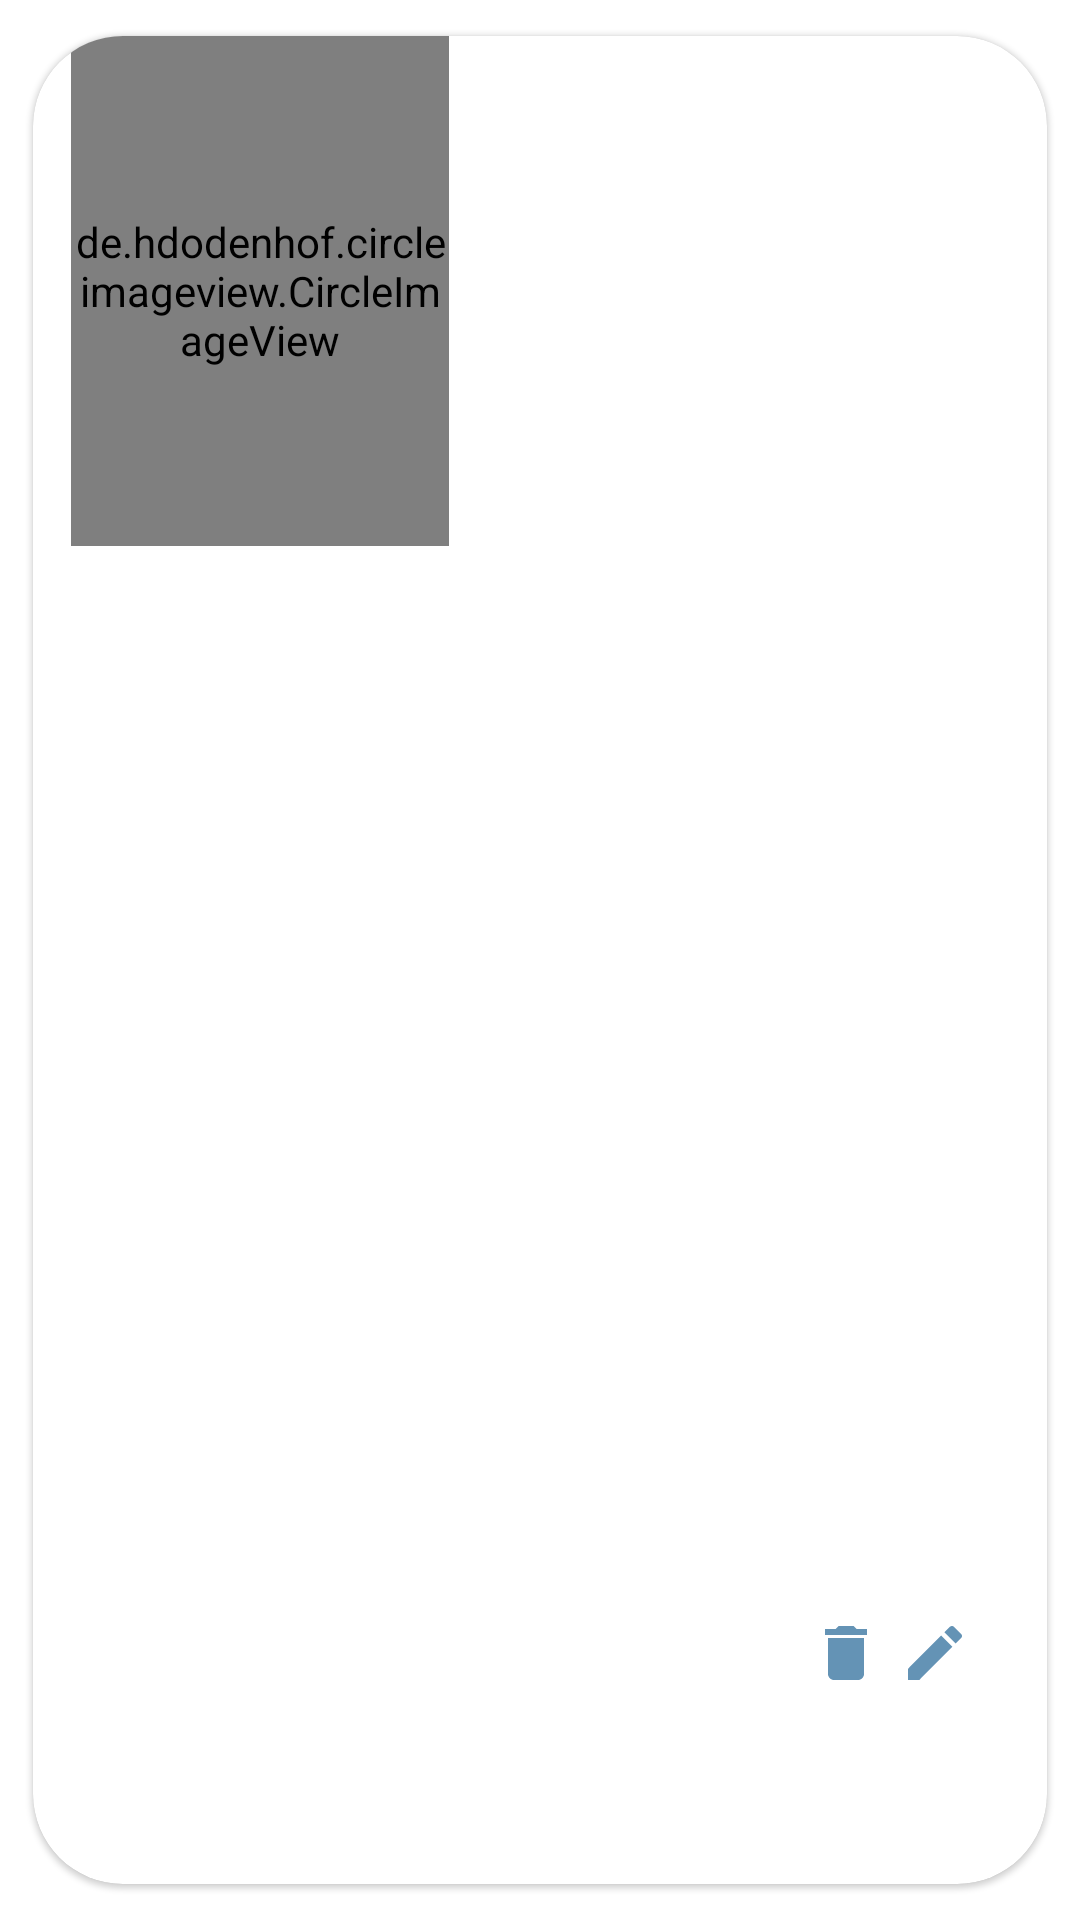

Icons on this 1080w x 1920h Android screen, each with the point to tap as point (x, y):
delete: point (846, 1653)
edit: point (935, 1653)
